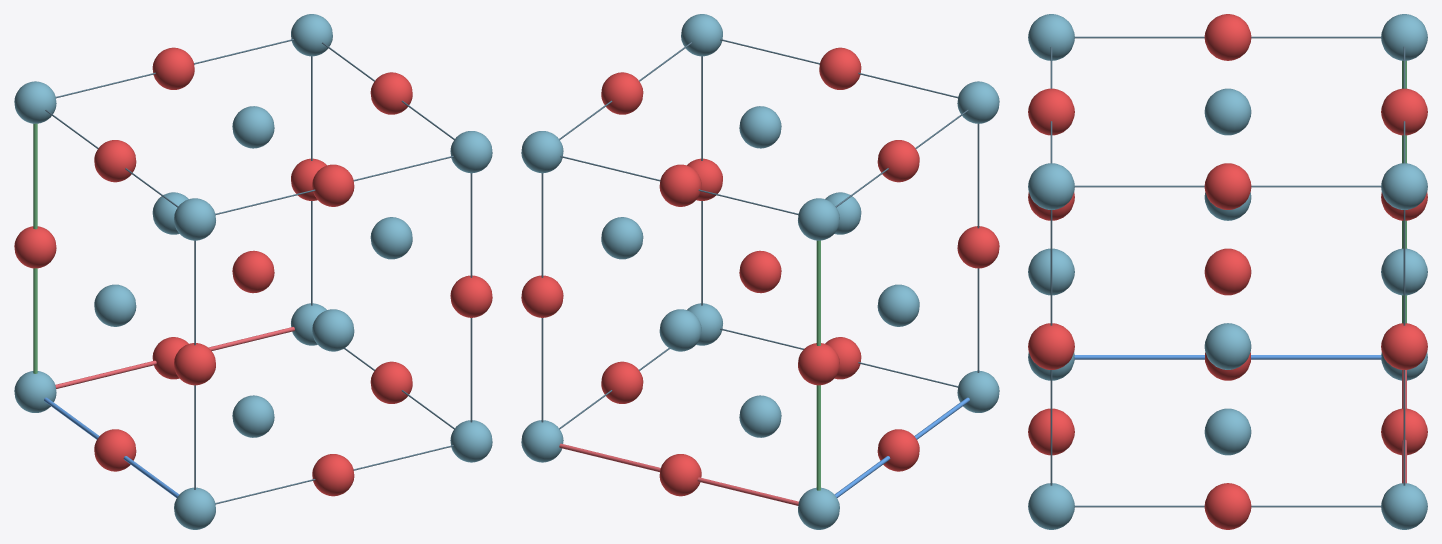
File: chat-lime.glb
3 renders of one model, left to right at view 1: azimuth 30°, elevation 25°; view 2: azimuth 150°, elevation 25°; view 3: azimuth 270°, elevation 25°, orthographic. The views are drawn at different scales.
Visible parts, largest first — view 1: Ca · Ca · 1 (×14), O · O · 1 (×13), Ô mạng và các trục a, b, c; view 2: Ca · Ca · 1 (×14), O · O · 1 (×13), Ô mạng và các trục a, b, c; view 3: Ca · Ca · 1 (×14), O · O · 1 (×13), Ô mạng và các trục a, b, c.
Boxes of the visible parts, box(x1,y1,x2,y2) form: Ca · Ca · 1 (×14): box(14, 14, 492, 529); O · O · 1 (×13): box(14, 47, 492, 496); Ô mạng và các trục a, b, c: box(33, 39, 472, 504); Ca · Ca · 1 (×14): box(521, 14, 999, 529); O · O · 1 (×13): box(521, 47, 999, 496); Ô mạng và các trục a, b, c: box(541, 39, 979, 505); Ca · Ca · 1 (×14): box(1028, 14, 1427, 529); O · O · 1 (×13): box(1028, 14, 1427, 529); Ô mạng và các trục a, b, c: box(1050, 36, 1406, 507).
Bounding box in the file's own units: 5.45 × 5.45 × 5.45.
